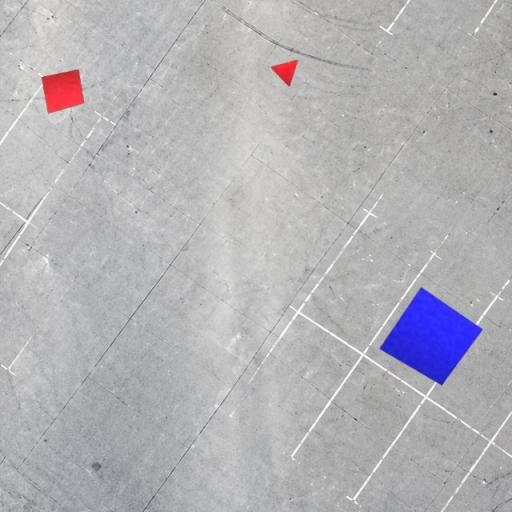BLUE_SQUARE: (378, 286, 484, 386)
RED_SQUARE: (41, 68, 85, 114)
